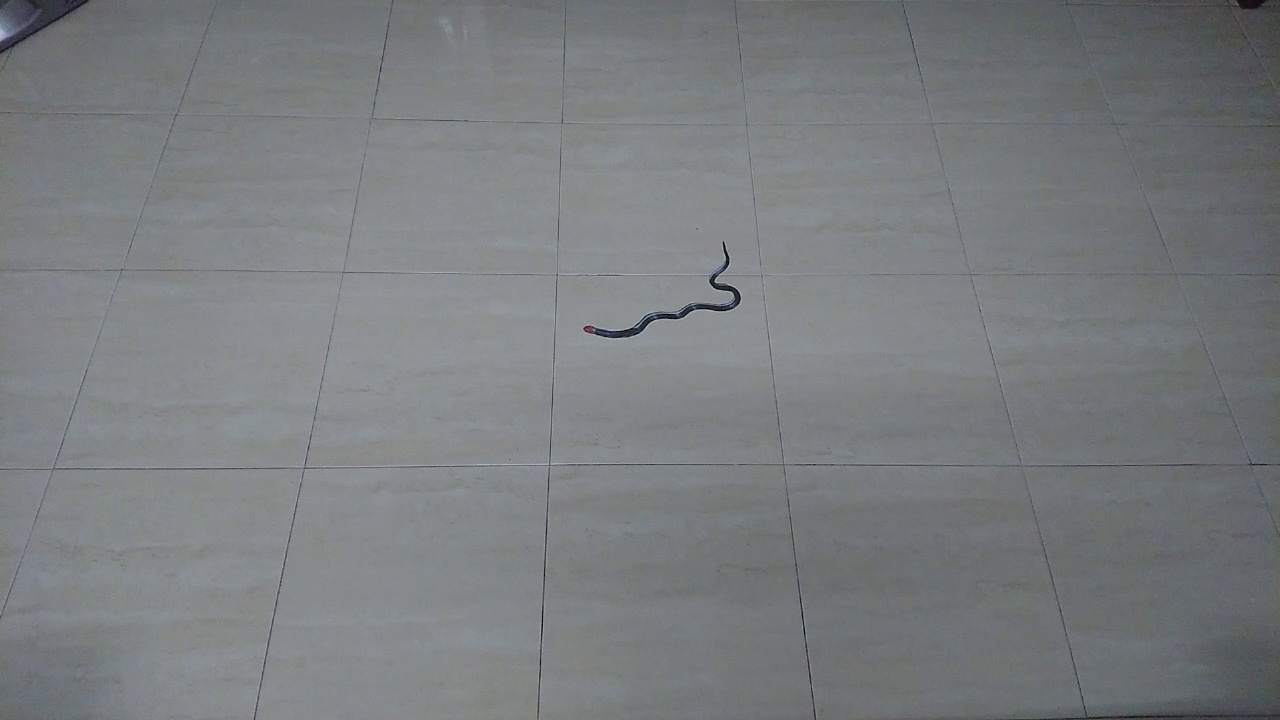snake: (573, 236, 752, 344)
